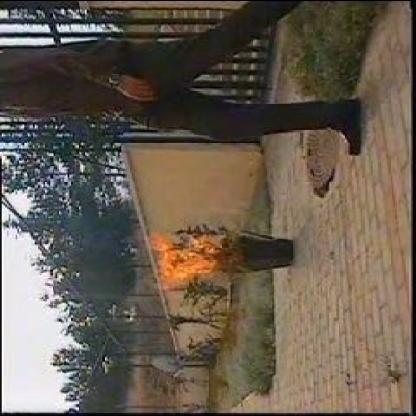foggia-v2-map80-epoch100 - v1 4323: (150, 232, 219, 282)
